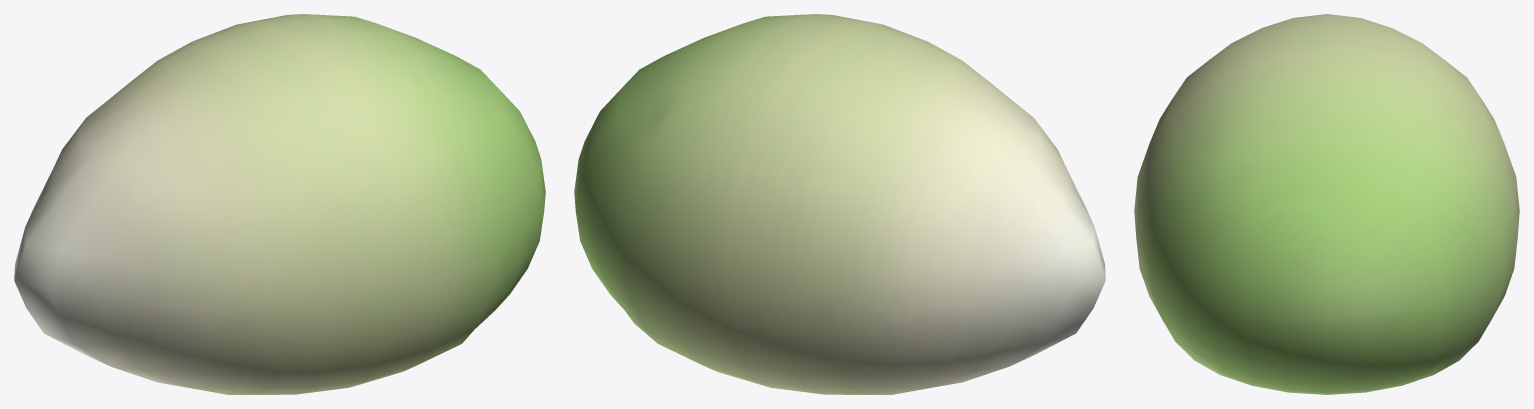
The model's file is tane.fbx.
3 renders of one model, left to right at view 1: azimuth 30°, elevation 25°; view 2: azimuth 150°, elevation 25°; view 3: azimuth 270°, elevation 25°, orthographic. The views are drawn at different scales.
Visible parts, largest first — view 1: tane1; view 2: tane1; view 3: tane1.
Part boxes in pixels (x1,y1,x2,y2): tane1: [14, 14, 545, 394]; tane1: [574, 14, 1105, 394]; tane1: [1134, 14, 1519, 394].
Size of the model in its own units: 91.08 by 56.1 by 62.37.
1 material, 1 textured.
